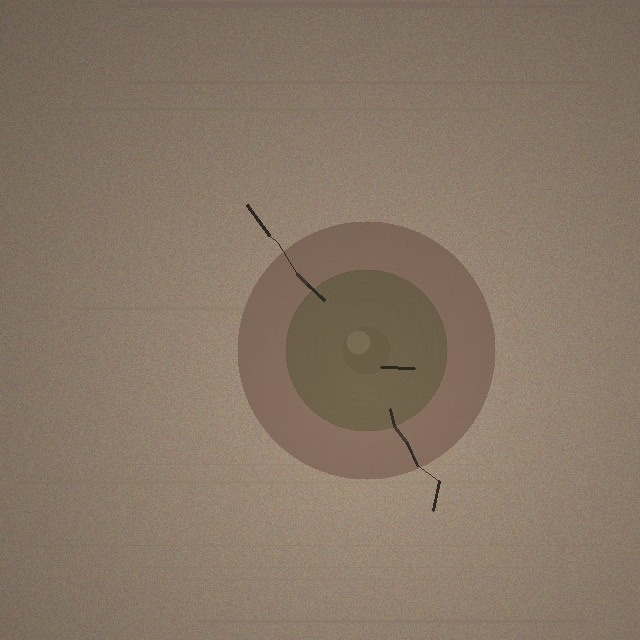crack: (237, 221, 495, 479)
